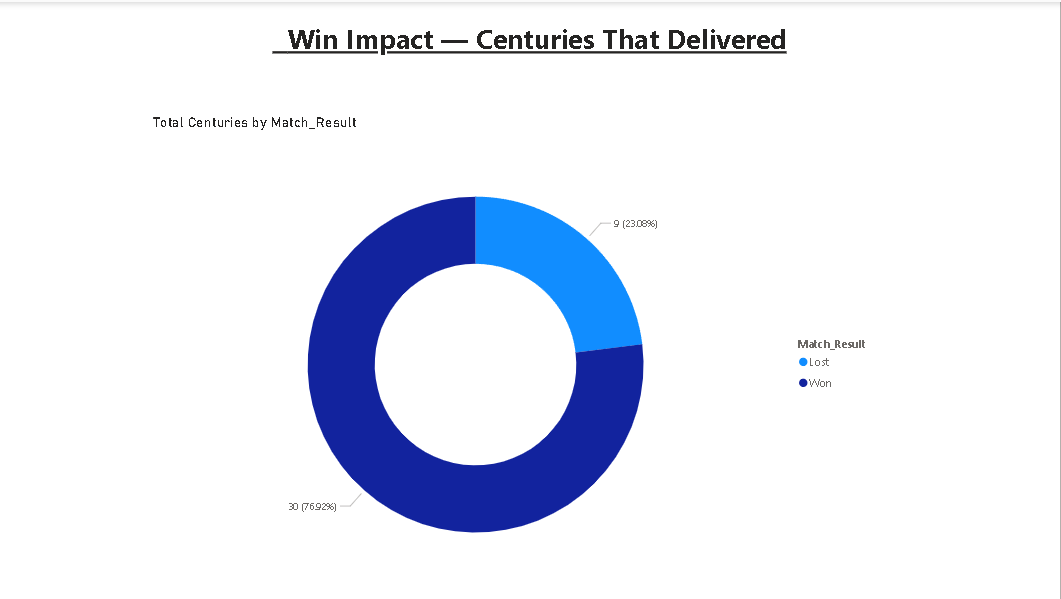

What the dashboard file says about the page in this screenshot:
{"tool":"powerbi","page":{"name":"Win Impact","canvas":[1280,720],"ordinal":2},"visuals":[{"type":"donutChart","fields":{"Category":["rohit_sharma_centuries.Match_Result"],"Y":["rohit_sharma_centuries.Total Centuries"]},"box":[182.1,135.7,886.3,584],"z":0},{"type":"textbox","box":[230.2,17.2,821,56.7],"z":1000}]}

Visuals, with their boxes in screenshot pixels (x1, y1, x2, y2), scaled from the page's 1280x720 canvas onto the 1061x599 screenshot:
donutChart - rohit_sharma_centuries.Match_Result x rohit_sharma_centuries.Total Centuries: [151,113,886,598]
textbox: [191,14,871,61]
